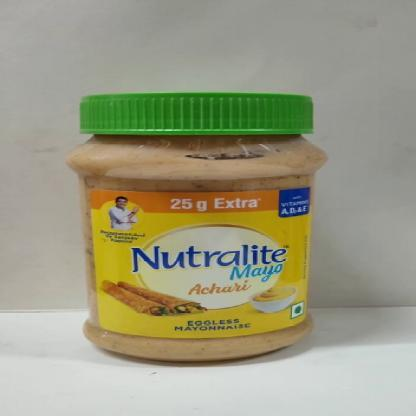Nutralite ACHARI MAYO 300g-275g-25g-: (68, 93, 331, 365)
